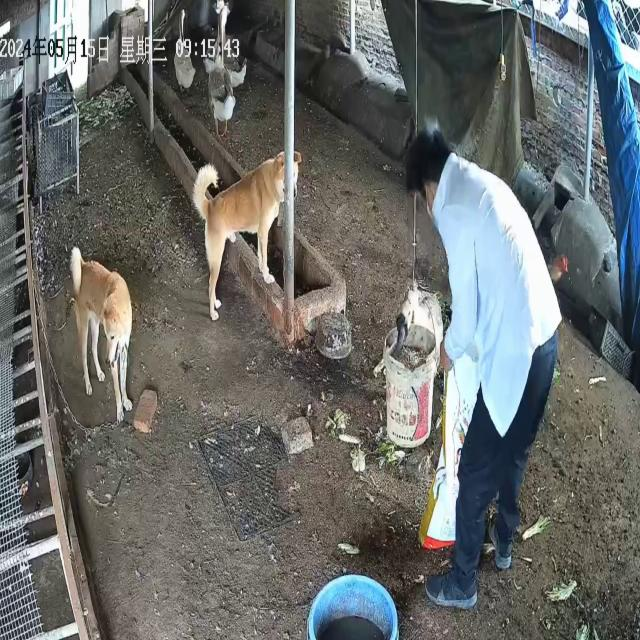dog: (193, 150, 304, 323), (70, 246, 134, 425)
